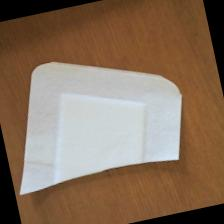Cut: (1, 32, 206, 218)
